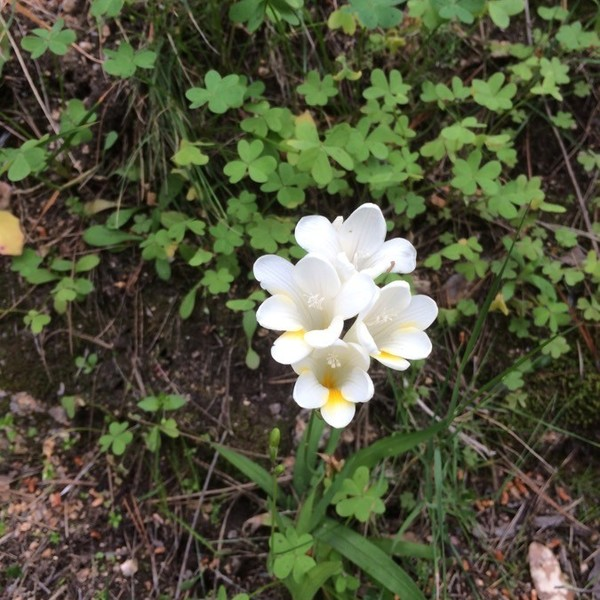obstacle: (61, 47, 553, 429), (246, 417, 440, 570)
